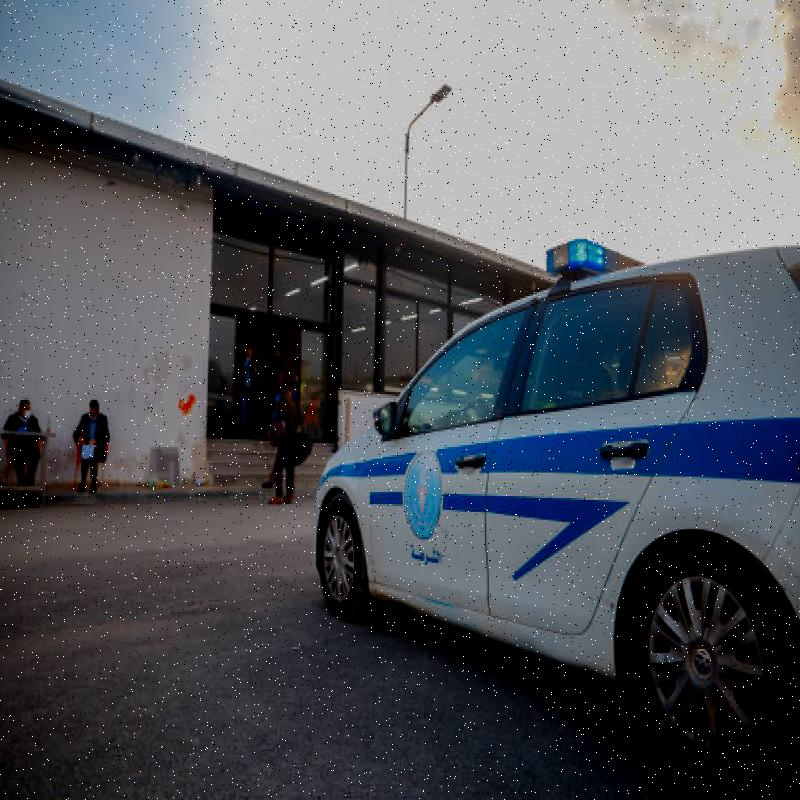AmbulanceSiren: (541, 212, 649, 292)
